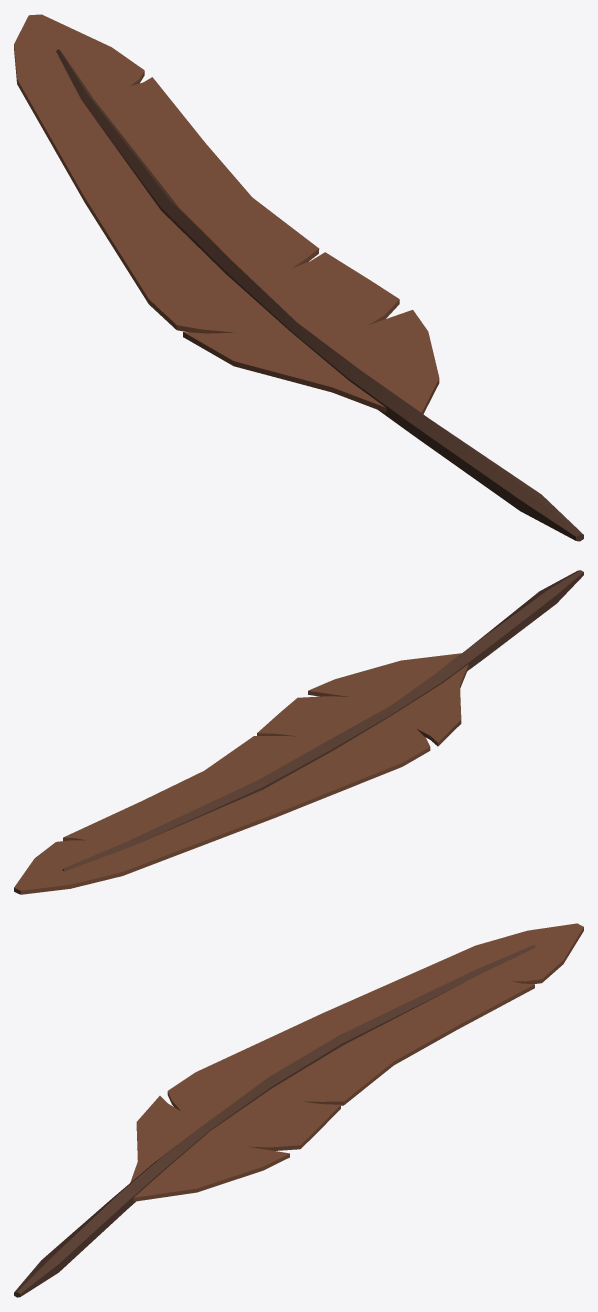
The model's file is Feather_01.fbx.
3 renders of one model, top to bottom at view 1: azimuth 30°, elevation 25°; view 2: azimuth 150°, elevation 25°; view 3: azimuth 330°, elevation 25°, orthographic. The views are drawn at different scales.
Visible parts, largest first — view 1: Feather_01; view 2: Feather_01; view 3: Feather_01.
Part boxes in pixels (x1,y1,x2,y2): Feather_01: (14, 14, 583, 541); Feather_01: (14, 570, 583, 894); Feather_01: (14, 923, 583, 1297).
Size of the model in its own units: 0.0486 by 0.0087 by 0.2356.
